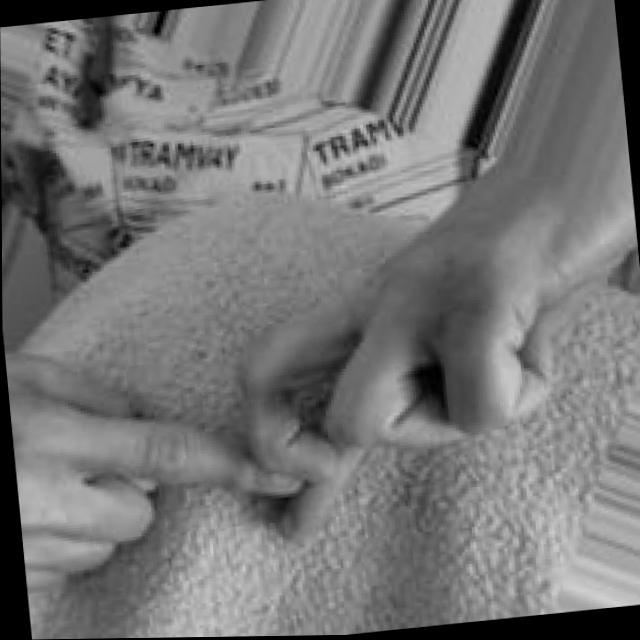R: (1, 179, 603, 597)
